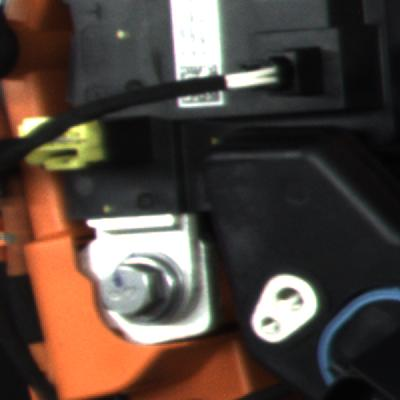nut_b: (97, 238, 186, 330)
